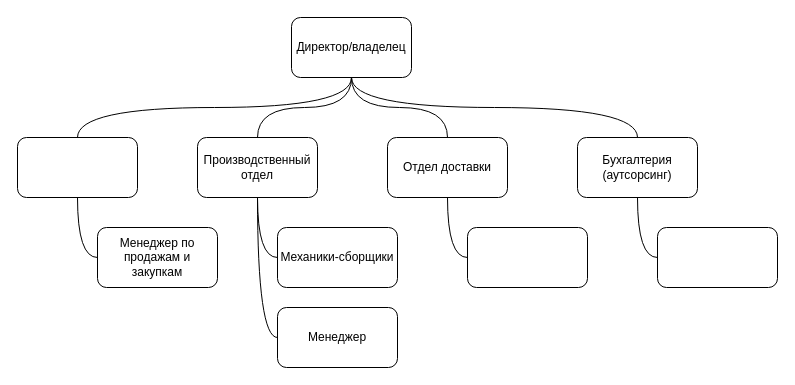
This 795x385 diagram has some shape labels left out. The centre of each missing label's shape, as x and y in pixels:
Бухгалтер: the point at 717,257
Курьер: the point at 527,257
Отдел продаж и закупок: the point at 77,167
